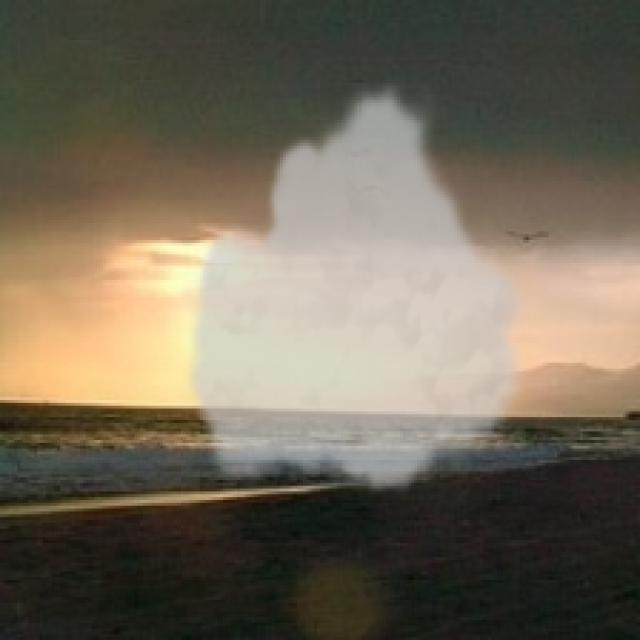smoke: (183, 77, 534, 497)
